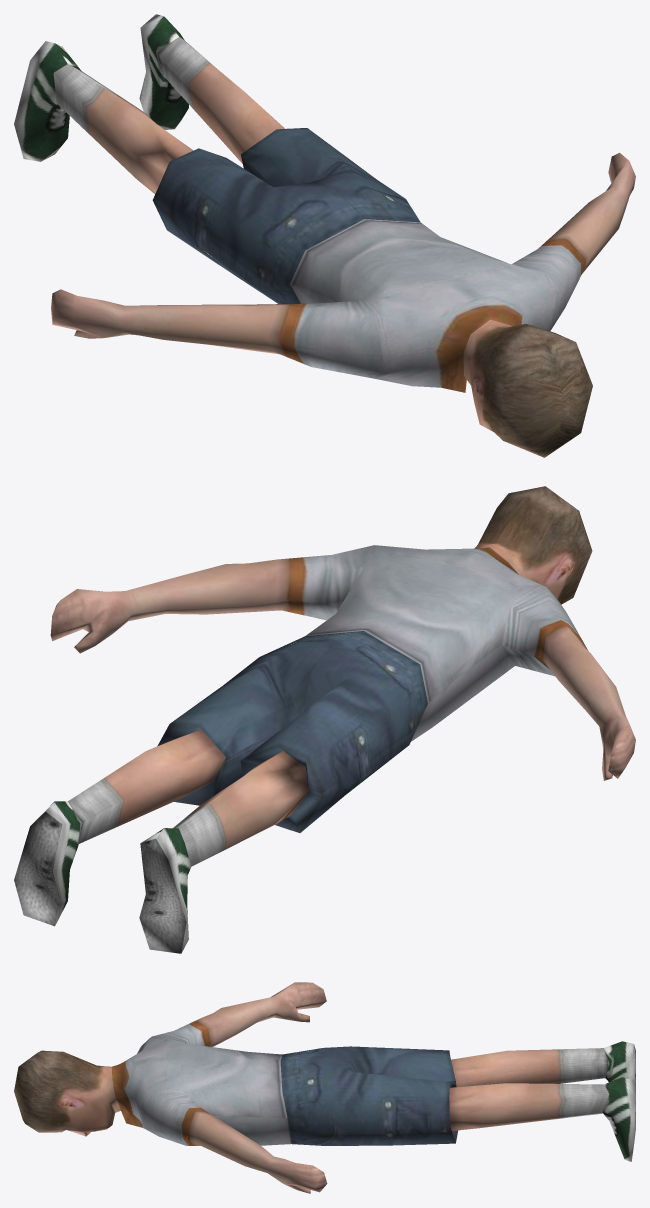
The model's file is childMale_run.obj.
The picture shows the model from 3 angles, top to bottom: view 1: azimuth 30°, elevation 25°; view 2: azimuth 150°, elevation 25°; view 3: azimuth 270°, elevation 25°; orthographic projection. The views are drawn at different scales.
Size of the model in its own units: 1.03 by 0.2228 by 1.45.
1 material, 1 textured.
